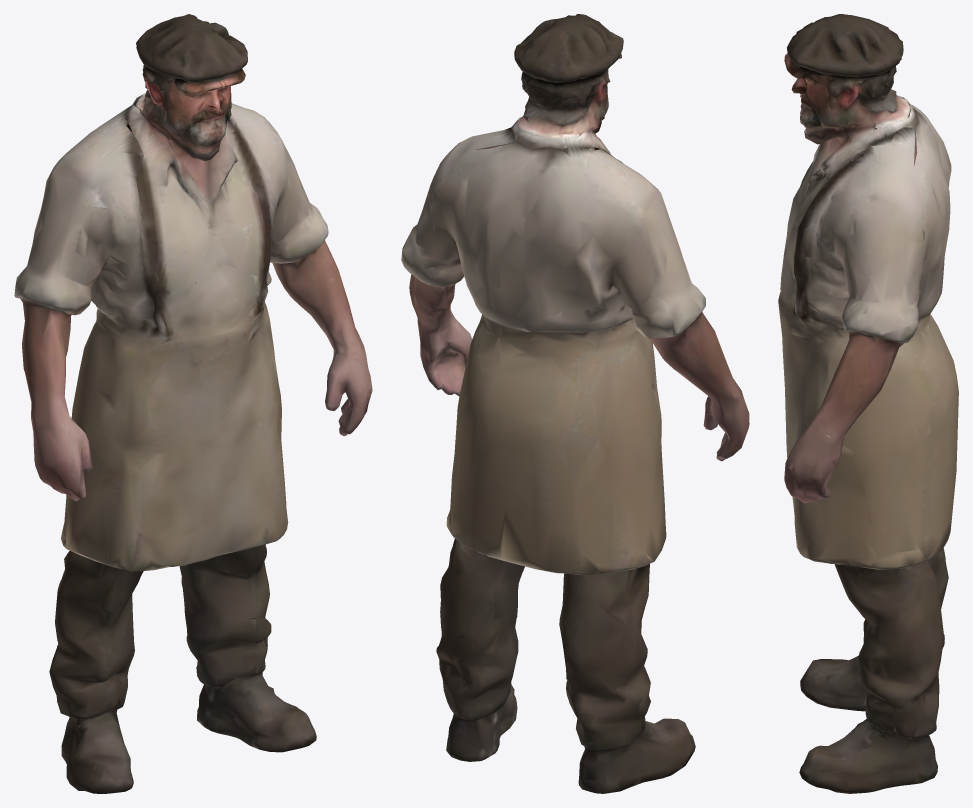
Rendered from miller.phone.glb.
The picture shows the model from 3 angles, left to right: view 1: azimuth 30°, elevation 25°; view 2: azimuth 150°, elevation 25°; view 3: azimuth 270°, elevation 25°; orthographic projection. The views are drawn at different scales.
Parts seen in each view (by area): view 1: miller.phone.raw; view 2: miller.phone.raw; view 3: miller.phone.raw.
Boxes of the visible parts, bbox=[...] form: miller.phone.raw: bbox=[14, 14, 372, 793]; miller.phone.raw: bbox=[401, 14, 749, 793]; miller.phone.raw: bbox=[778, 14, 958, 793].
Bounding box in the file's own units: 0.848 × 1.82 × 0.4098.
1 material, 1 textured.
